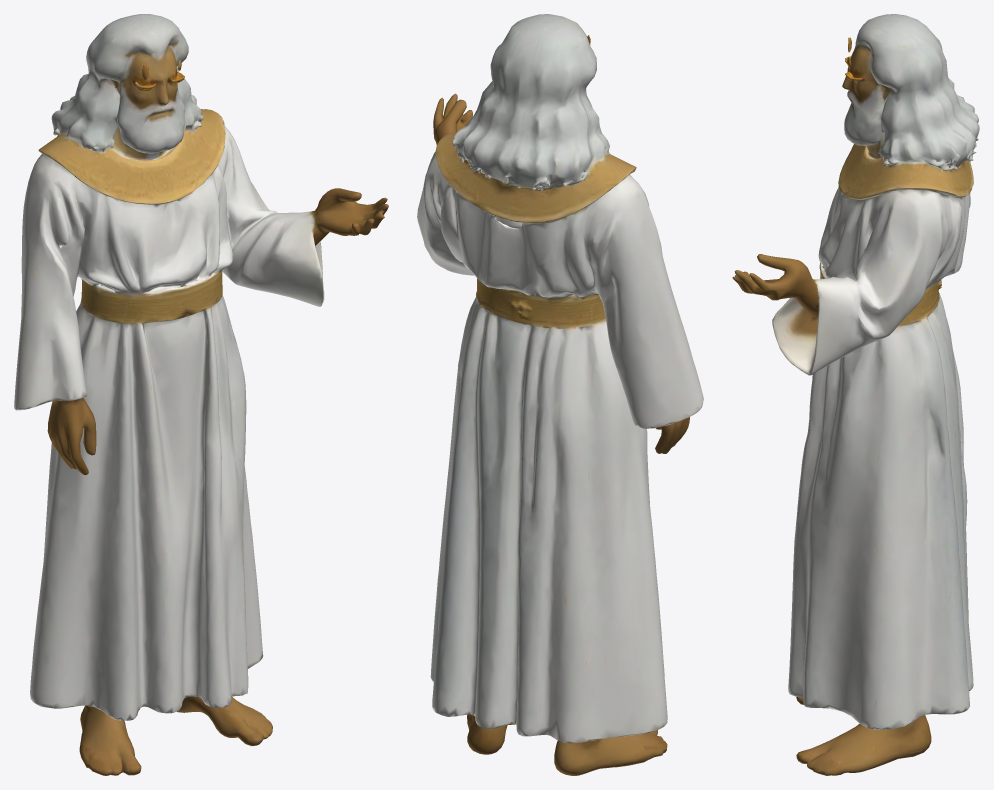
File: sonOfMan.glb
3 views of the same model, side by side, from view 1: azimuth 30°, elevation 25°; view 2: azimuth 150°, elevation 25°; view 3: azimuth 270°, elevation 25° (orthographic). The views are drawn at different scales.
Visible parts, largest first — view 1: geometry_0; view 2: geometry_0; view 3: geometry_0.
Part boxes in pixels (x1=…): geometry_0: x1=14, y1=14, x2=388, y2=775; geometry_0: x1=417, y1=14, x2=703, y2=775; geometry_0: x1=732, y1=14, x2=979, y2=775.
Bounding box in the file's own units: 0.4585 × 1 × 0.3164.
Materials: 1 (1 with a texture image).
